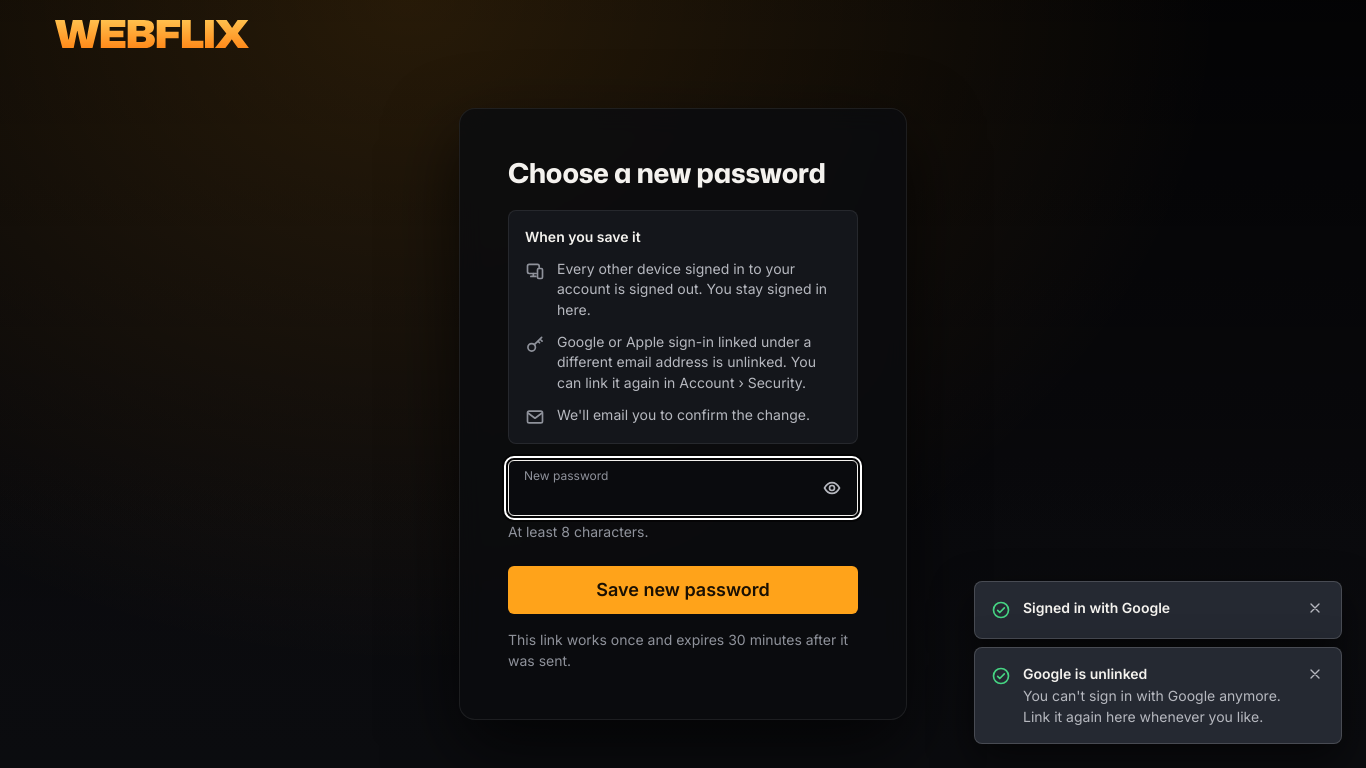
Test case: emailed links › a reset signs this device in, says so, and goes where sign-in goes
The width and height of the screenshot is (1366, 768).
Type "a brand new passphrase" into the password field labelled "New password" at (683, 488), box [508, 460, 858, 516]
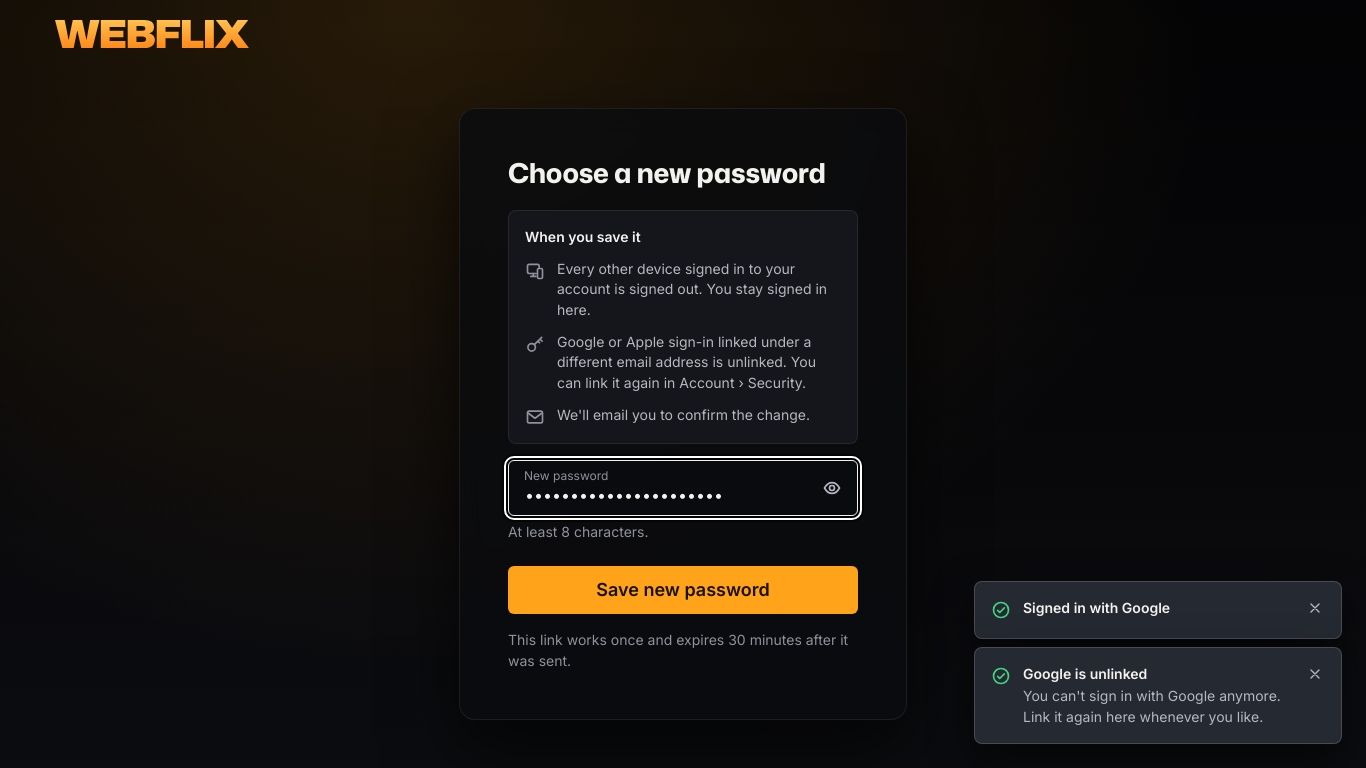
Click the button "Save new password" at (683, 590), box [508, 566, 858, 614]
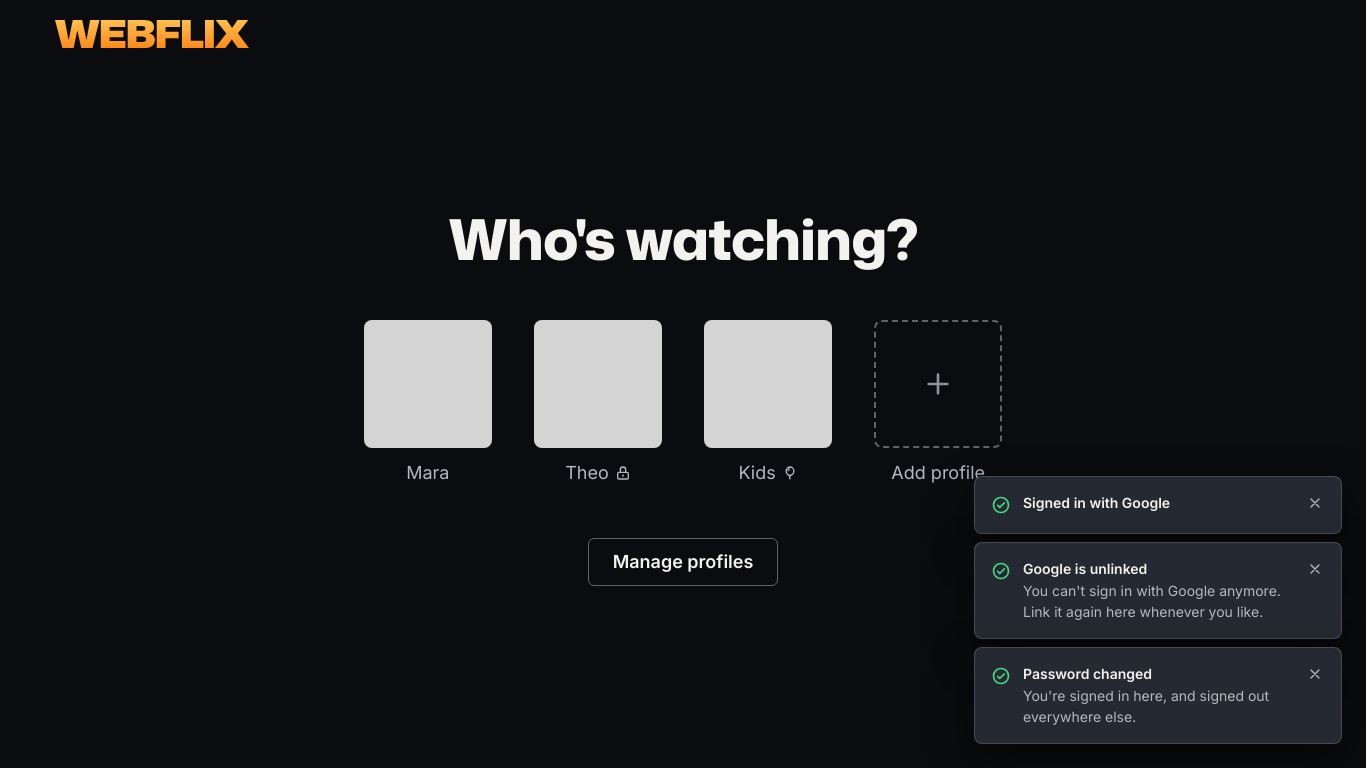
Expected: the text "You're signed in here, and signed out everywhere else." is shown, [1023, 686, 1289, 727]
